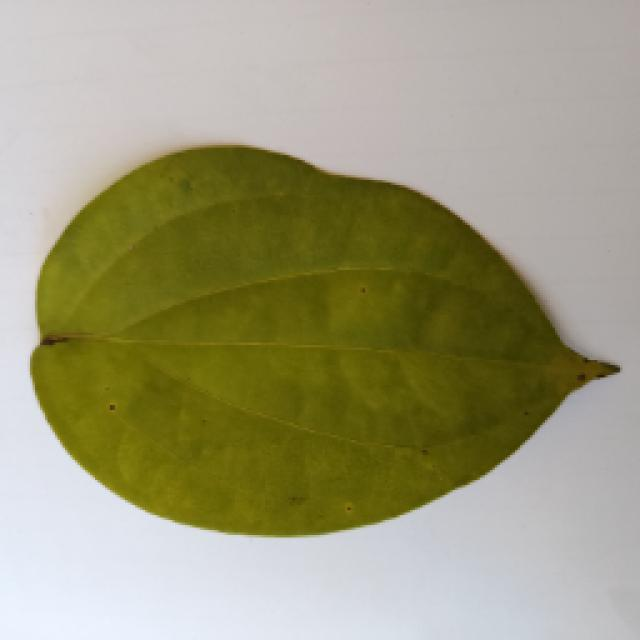slow-decline: (22, 138, 620, 548)
